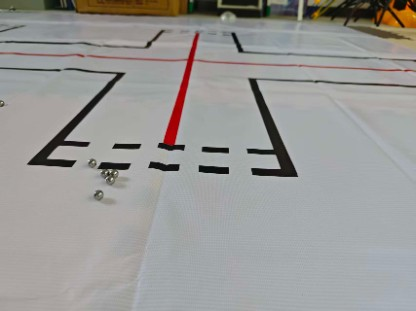ironball: (93, 188, 103, 199), (86, 156, 95, 167), (104, 174, 113, 184), (109, 169, 118, 176), (99, 168, 107, 175)
